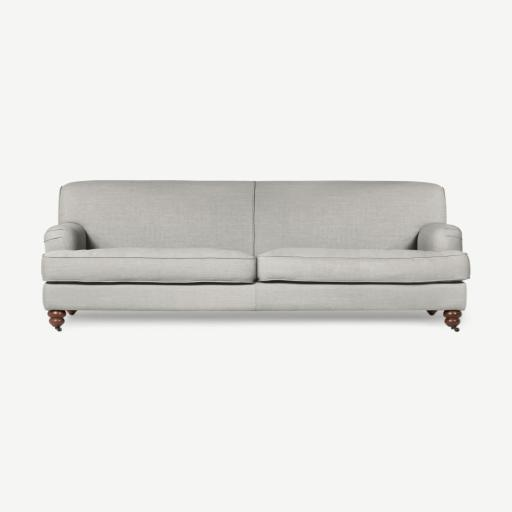back_cushion: (59, 181, 445, 256)
base: (43, 282, 466, 310)
left_arm: (418, 223, 462, 251)
legs: (48, 310, 76, 331), (444, 310, 461, 331), (428, 310, 435, 314)
right_arm: (44, 223, 85, 252)
seat_cushion: (43, 248, 469, 283)
two-seater: (0, 0, 511, 512)
